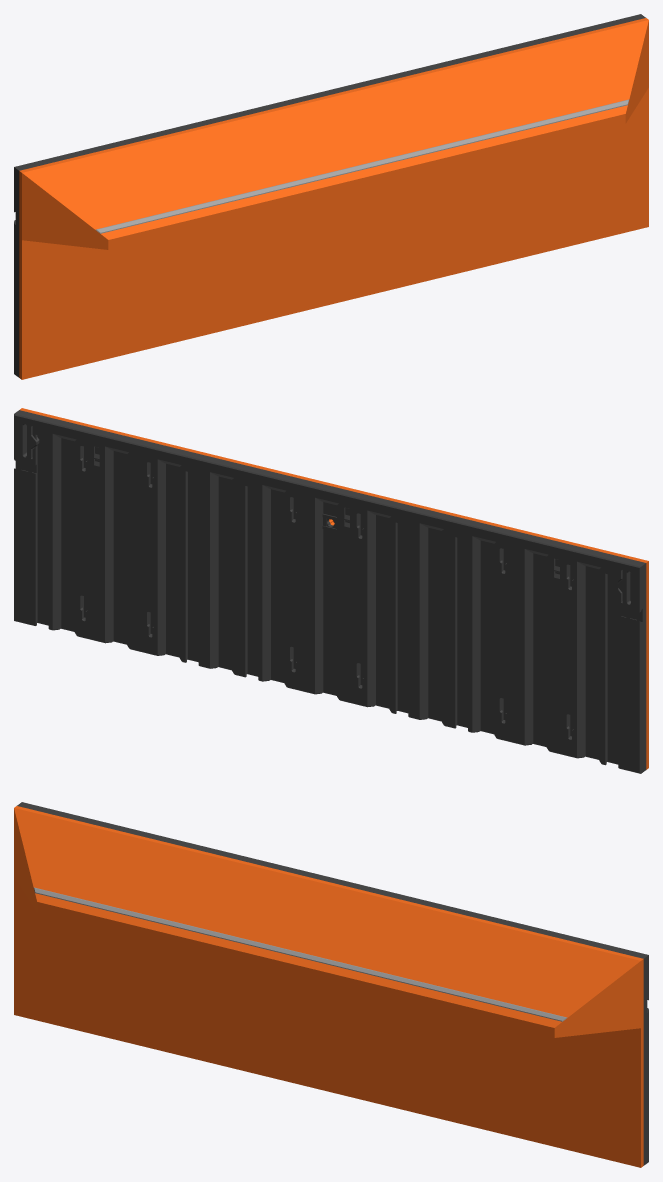
File: Faceplate_ClassicDecor_3W-15H.lib.glb
The picture shows the model from 3 angles, top to bottom: view 1: azimuth 30°, elevation 25°; view 2: azimuth 150°, elevation 25°; view 3: azimuth 330°, elevation 25°; orthographic projection.
Parts seen in each view (by area): view 1: Faceplate_ClassicDecor_3W-15H; view 2: Faceplate_ClassicDecor_3W-15H; view 3: Faceplate_ClassicDecor_3W-15H.
Part boxes in pixels (x1,y1,x2,y2): Faceplate_ClassicDecor_3W-15H: [14, 14, 648, 379]; Faceplate_ClassicDecor_3W-15H: [14, 408, 648, 773]; Faceplate_ClassicDecor_3W-15H: [14, 802, 648, 1167].
Bounding box in the file's own units: 263 × 83 × 29.18.
